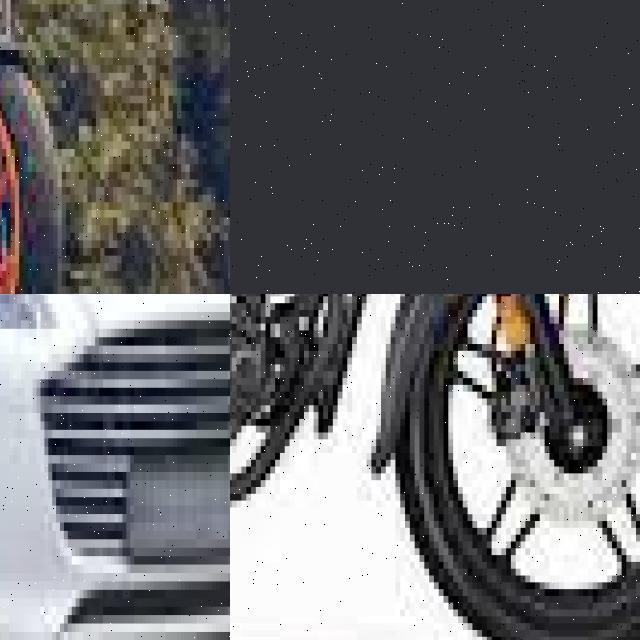bike: (230, 294, 640, 640), (0, 0, 96, 294)
car: (0, 294, 230, 640)
